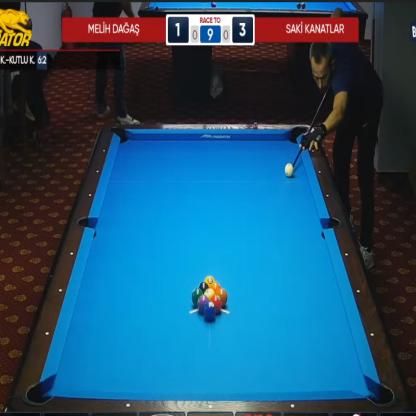Ball: (285, 163, 293, 177)
